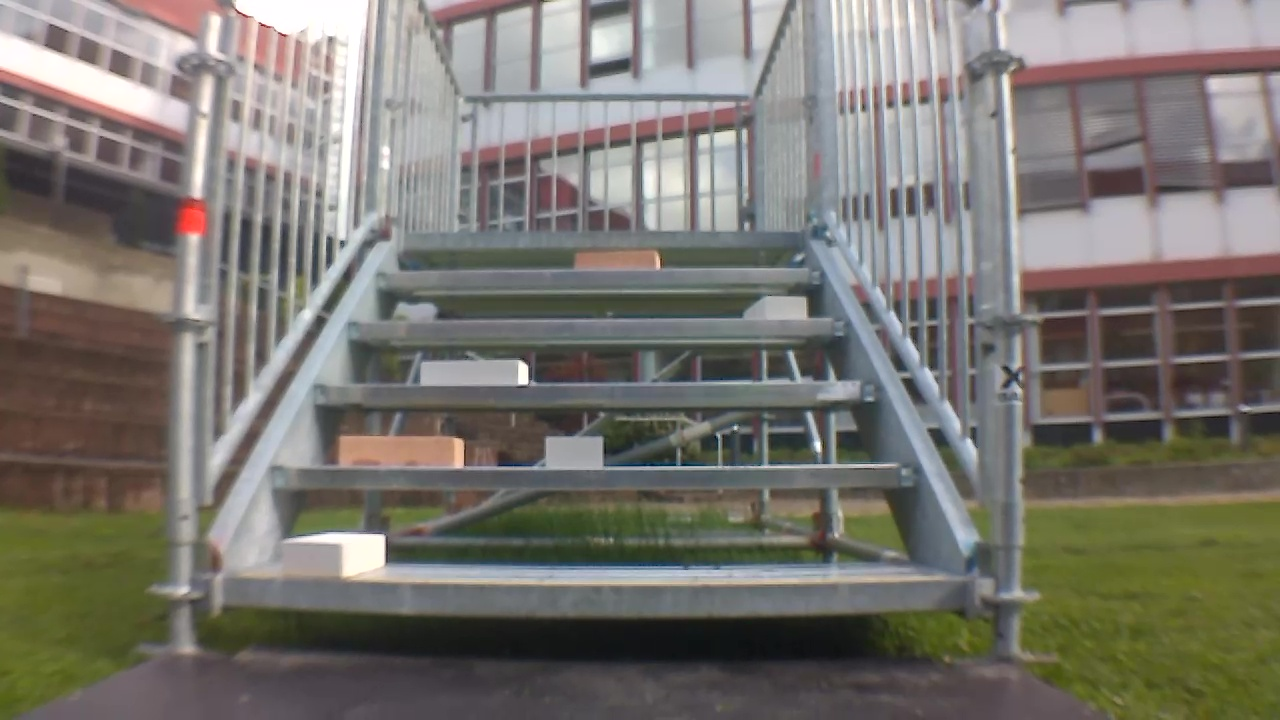brick: (278, 531, 391, 582), (334, 433, 462, 464), (419, 356, 528, 385), (546, 431, 605, 473), (570, 247, 662, 272), (738, 295, 809, 323)
edge: (226, 570, 975, 612), (268, 461, 917, 491), (307, 377, 885, 409), (351, 318, 847, 342), (374, 269, 830, 294), (399, 230, 801, 252)
stairs: (176, 0, 1022, 650)
steps: (213, 230, 973, 615)
